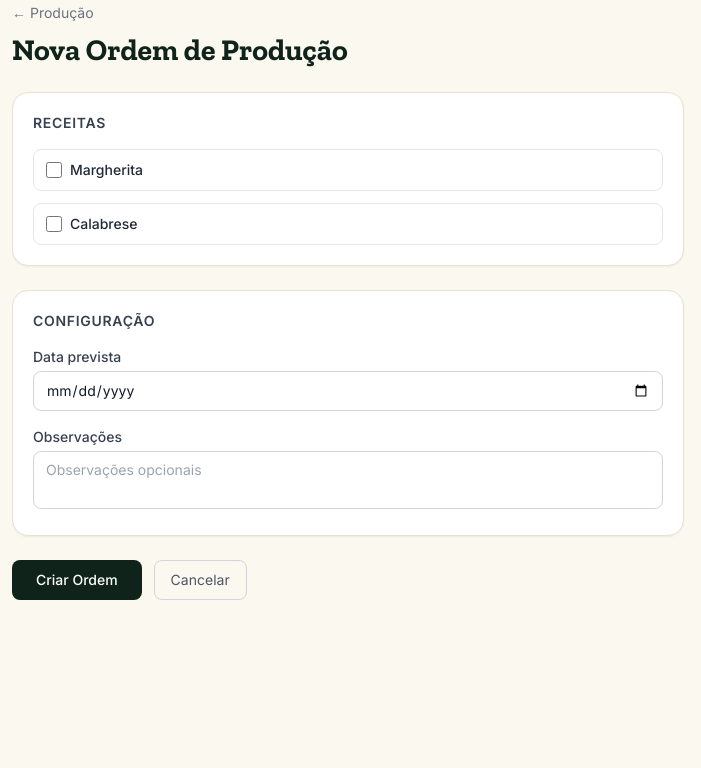
Test: nova ordem de produção › ordem criada com falta de insumo mostra o aviso do servidor e o link para a ordem
Later steps or results of the test are not shown.
Expected: the text "Margherita" is shown, top-left (70, 160), bottom-right (143, 180)
Click the checkbox labelled "Margherita" at (54, 170), box top-left (46, 162), bottom-right (62, 178)
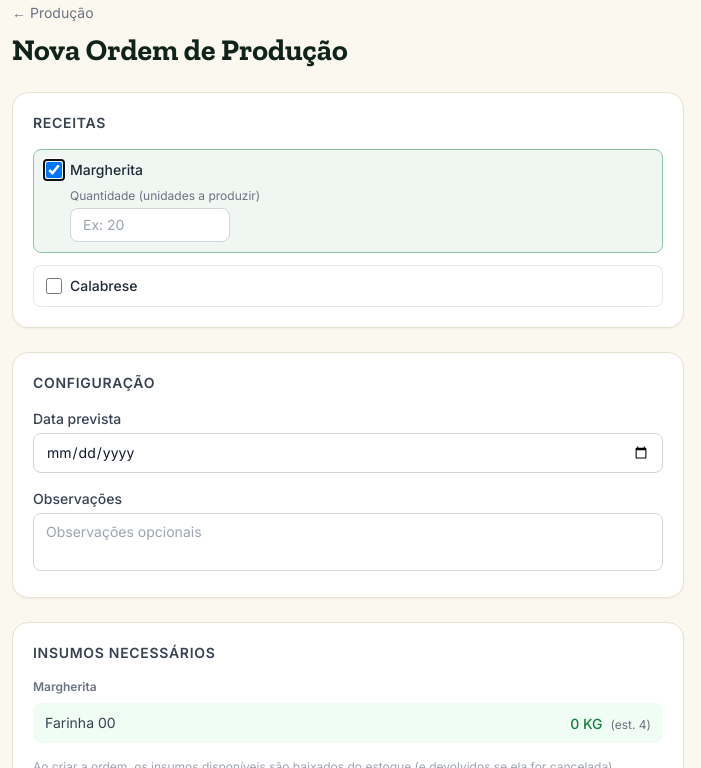
Type "10" into the number field with placeholder "Ex: 20" at (150, 225), box top-left (70, 208), bottom-right (230, 242)
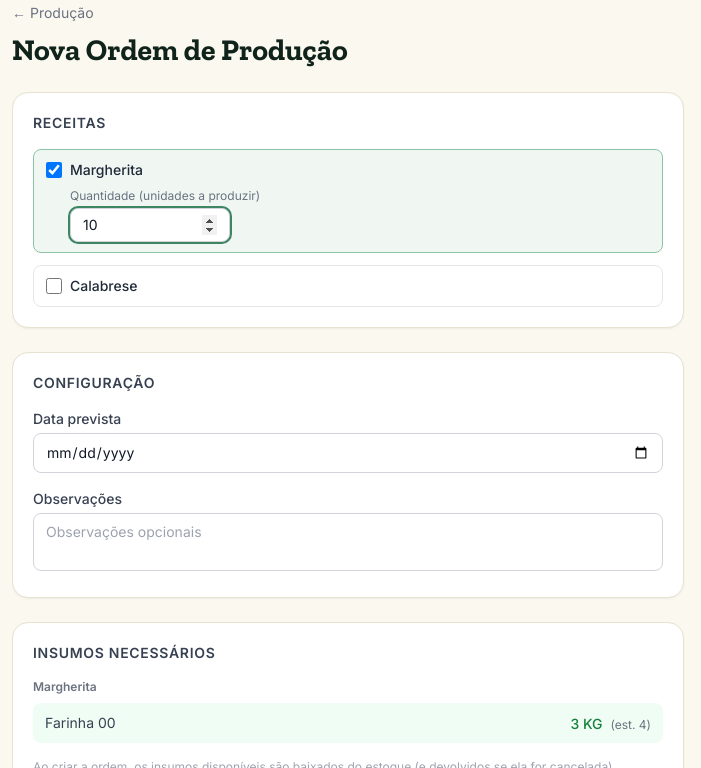
Click the checkbox labelled "Calabrese" at (54, 286), box top-left (46, 278), bottom-right (62, 294)
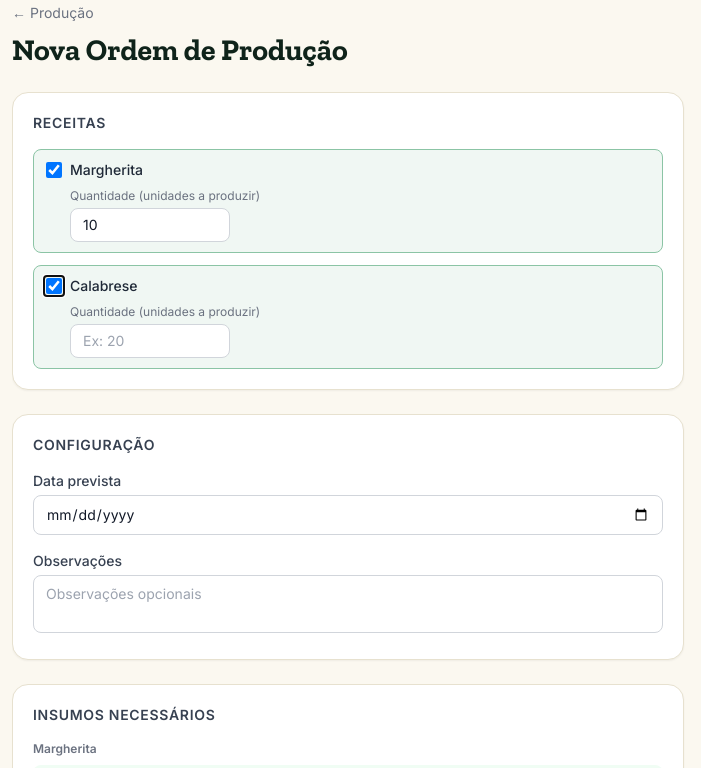
Type "10" into the number field with placeholder "Ex: 20" at (150, 341), box top-left (70, 324), bottom-right (230, 358)
(page scrolled)
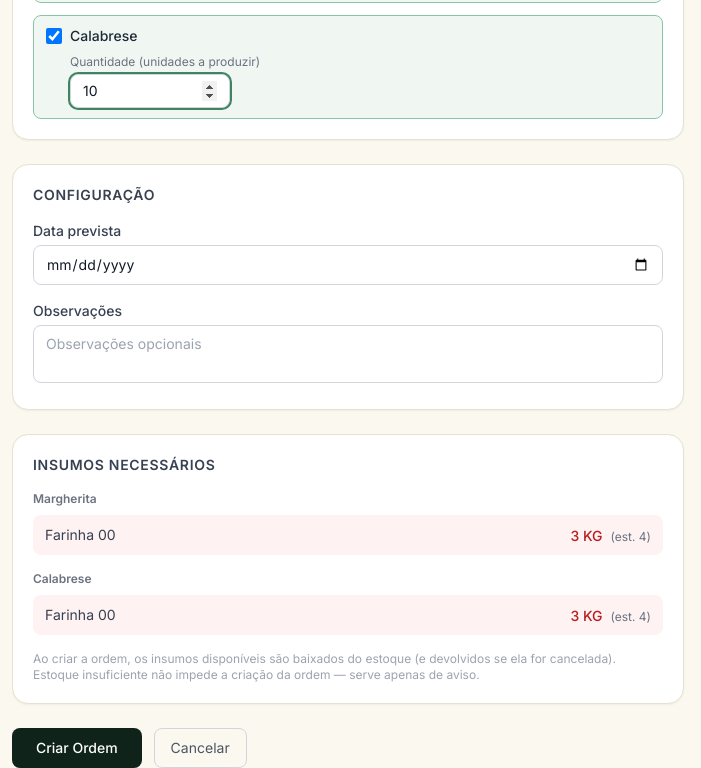
Click the button "Criar Ordem" at (77, 748), box top-left (12, 728), bottom-right (142, 767)
(page scrolled)
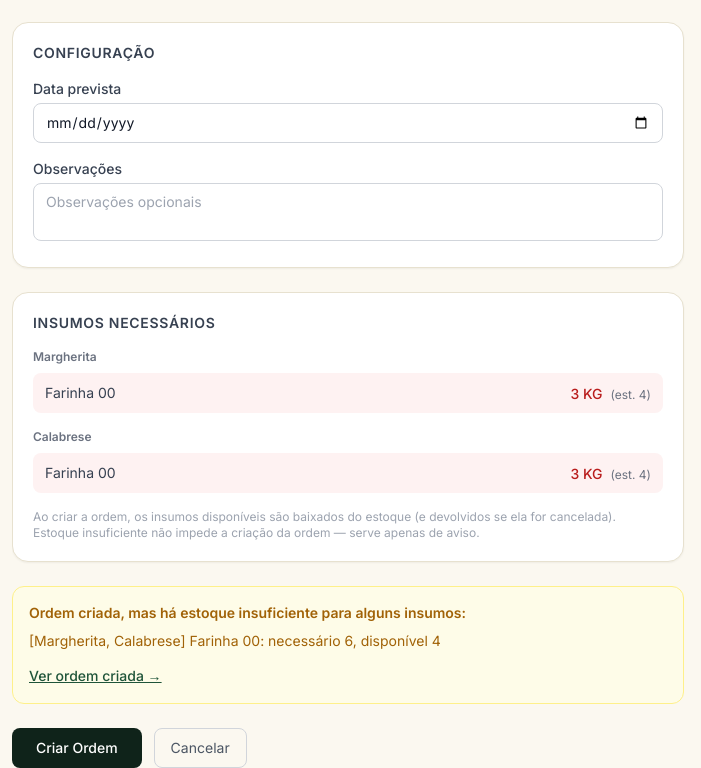
Now the text "Ordem criada, mas há estoque insuficiente" is shown, box top-left (29, 604), bottom-right (466, 621)
Now the text "[Margherita, Calabrese] Farinha 00: necessário 6" is shown, box top-left (29, 632), bottom-right (441, 649)
